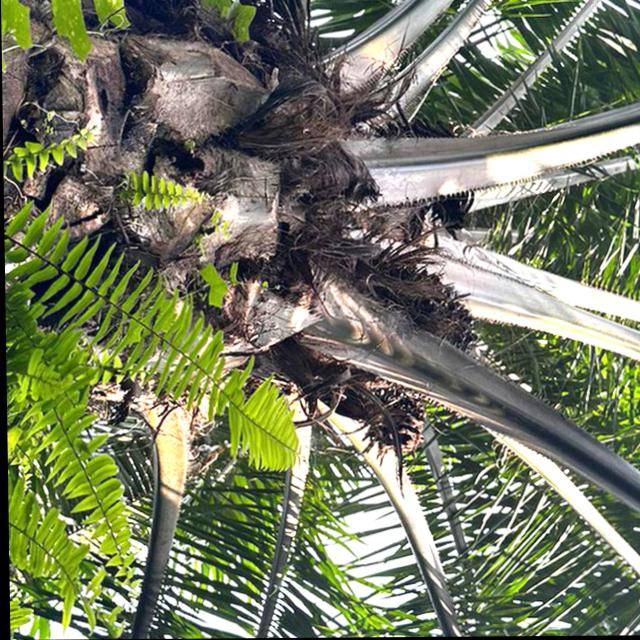almost: (350, 250, 487, 360)
